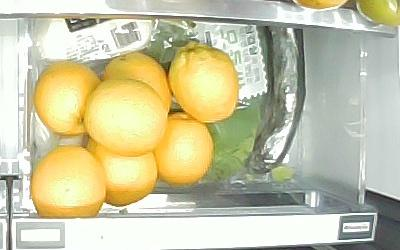orange: (87, 78, 167, 157), (170, 40, 241, 122), (32, 145, 105, 219), (34, 60, 98, 137), (89, 135, 158, 206), (103, 54, 172, 124), (155, 111, 213, 186)
